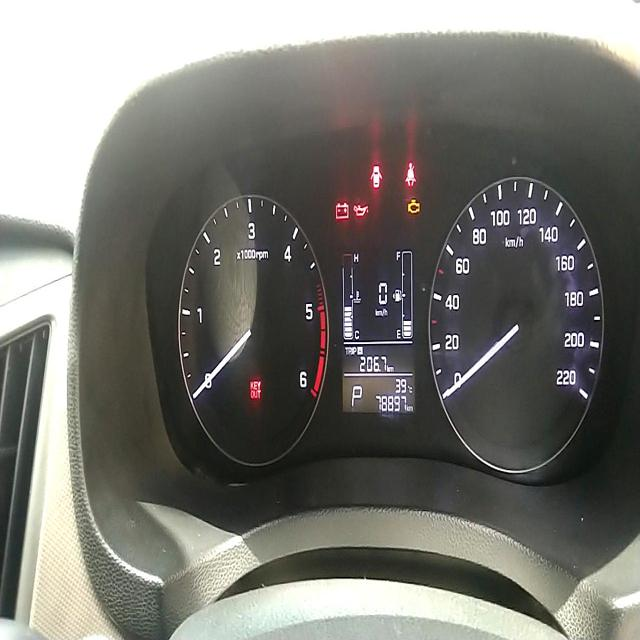odometer: (374, 392, 407, 413)
